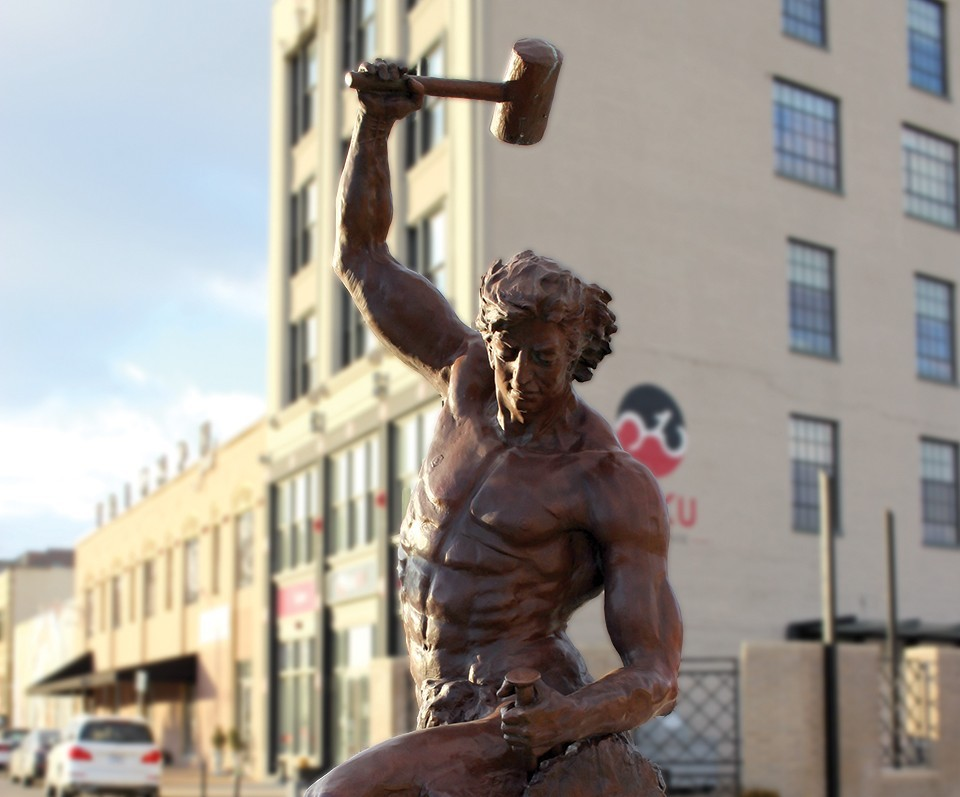person-like: (302, 33, 693, 794)
